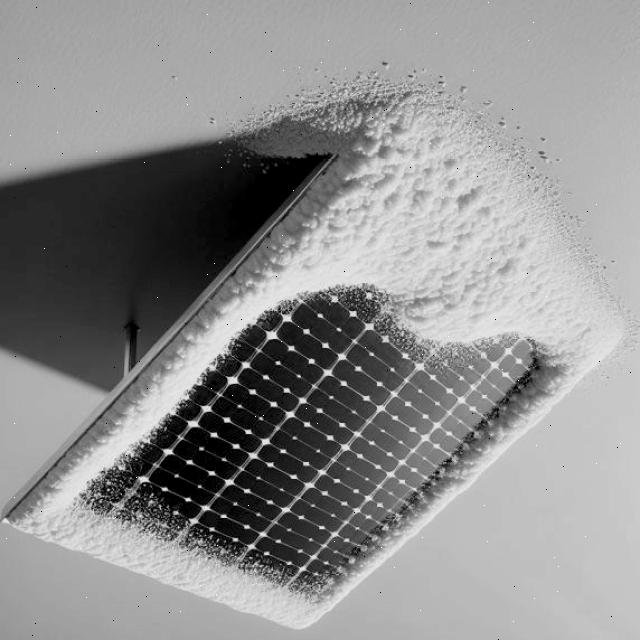Anomaly Solar Panel: (0, 93, 624, 640)
Snow: (0, 98, 627, 640), (117, 196, 543, 627)
